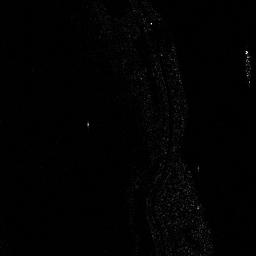ship: (244, 48, 252, 83)
